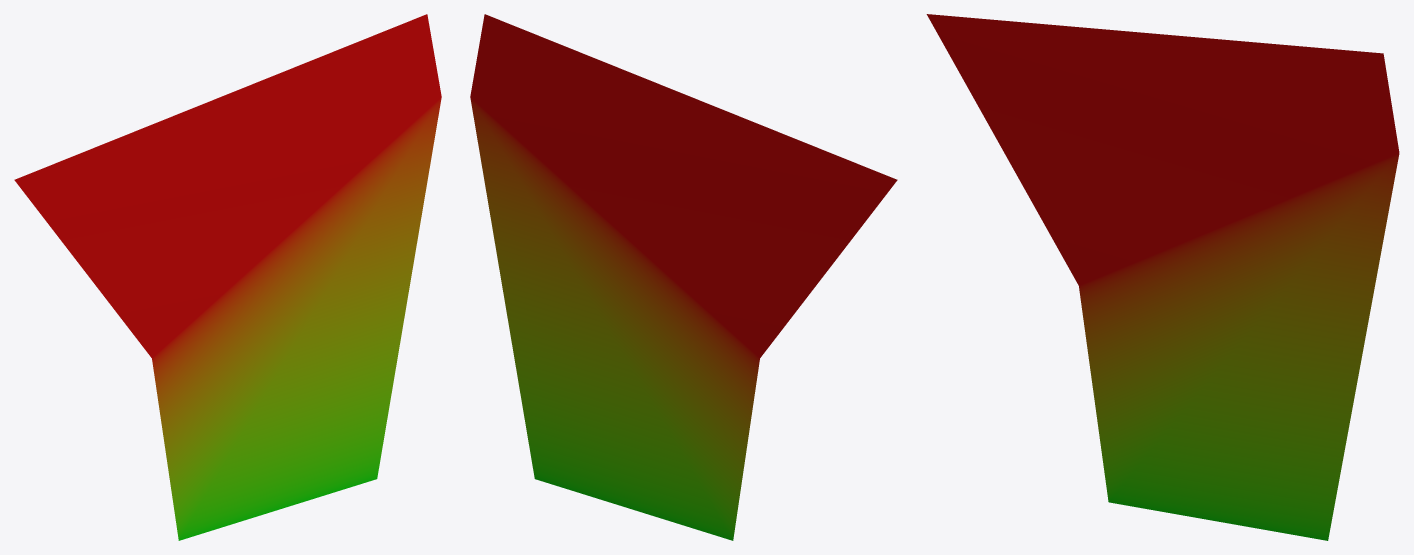
Rendered from Lily Of The Valley_LOD7_Var2_xikkdhjja.fbx.
The picture shows the model from 3 angles, left to right: view 1: azimuth 30°, elevation 25°; view 2: azimuth 150°, elevation 25°; view 3: azimuth 330°, elevation 25°; orthographic projection. The views are drawn at different scales.
Parts seen in each view (by area): view 1: _v0cz_Var2_LOD7; view 2: _v0cz_Var2_LOD7; view 3: _v0cz_Var2_LOD7.
Part boxes in pixels (x1=…): _v0cz_Var2_LOD7: x1=14, y1=14, x2=441, y2=540; _v0cz_Var2_LOD7: x1=470, y1=14, x2=897, y2=540; _v0cz_Var2_LOD7: x1=926, y1=14, x2=1399, y2=540.
Size of the model in its own units: 35.52 by 37.03 by 0.
